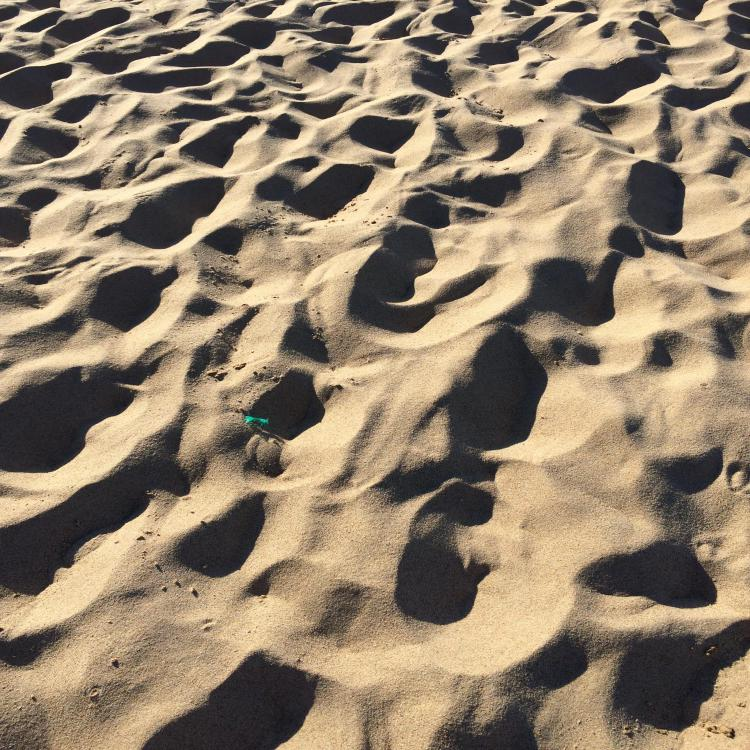Rope - strings: (245, 416, 269, 426)
